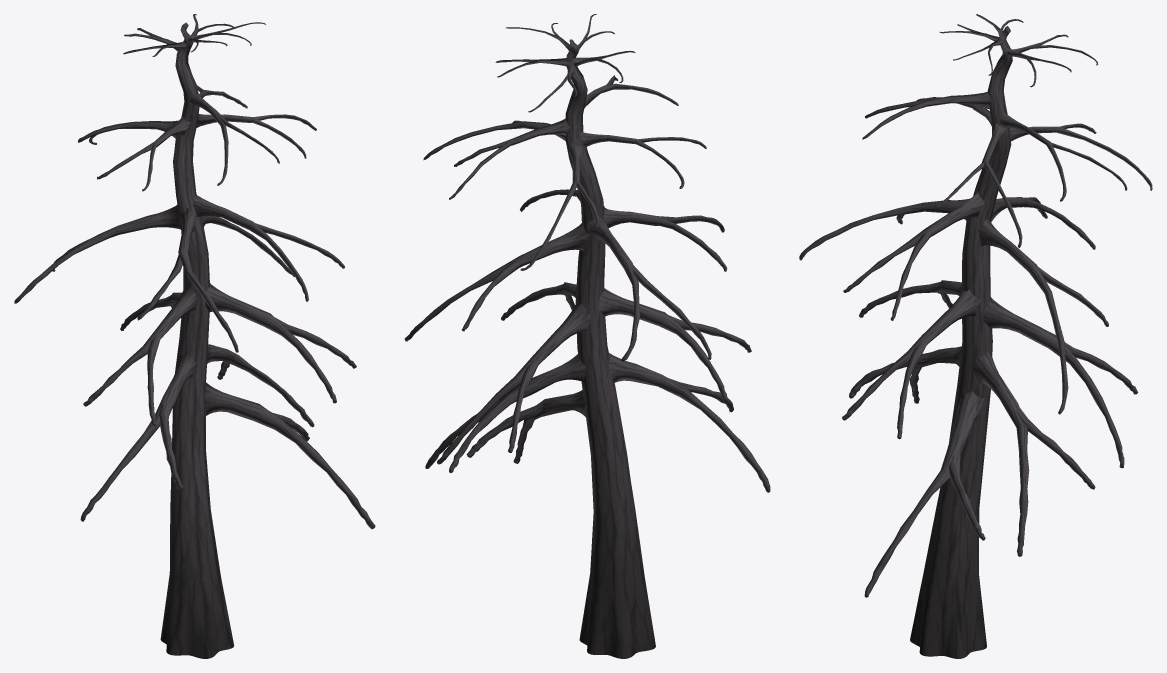
Rendered from deadtree_c.glb.
3 views of the same model, side by side, from view 1: azimuth 30°, elevation 25°; view 2: azimuth 150°, elevation 25°; view 3: azimuth 270°, elevation 25° (orthographic). The views are drawn at different scales.
Parts seen in each view (by area): view 1: DeadTree_5; view 2: DeadTree_5; view 3: DeadTree_5.
Boxes of the visible parts, left/top/right/bottom form: DeadTree_5: left=14, top=14, right=375, bottom=658; DeadTree_5: left=404, top=14, right=770, bottom=658; DeadTree_5: left=799, top=14, right=1152, bottom=658.
Bounding box in the file's own units: 8.36 × 16.44 × 8.41.
1 material, 1 textured.
